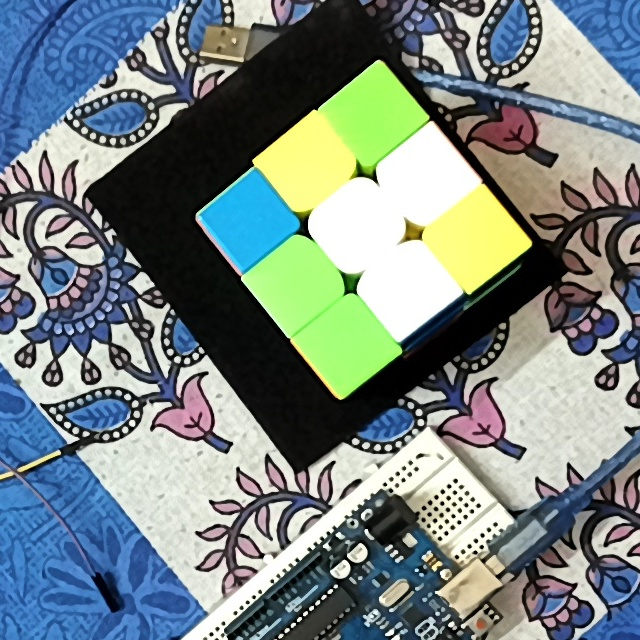tile: (264, 259, 327, 309), (446, 215, 503, 269), (320, 317, 375, 372), (330, 203, 386, 255), (348, 87, 400, 141), (401, 150, 456, 201), (377, 268, 432, 318), (282, 139, 333, 192), (222, 201, 273, 248)
